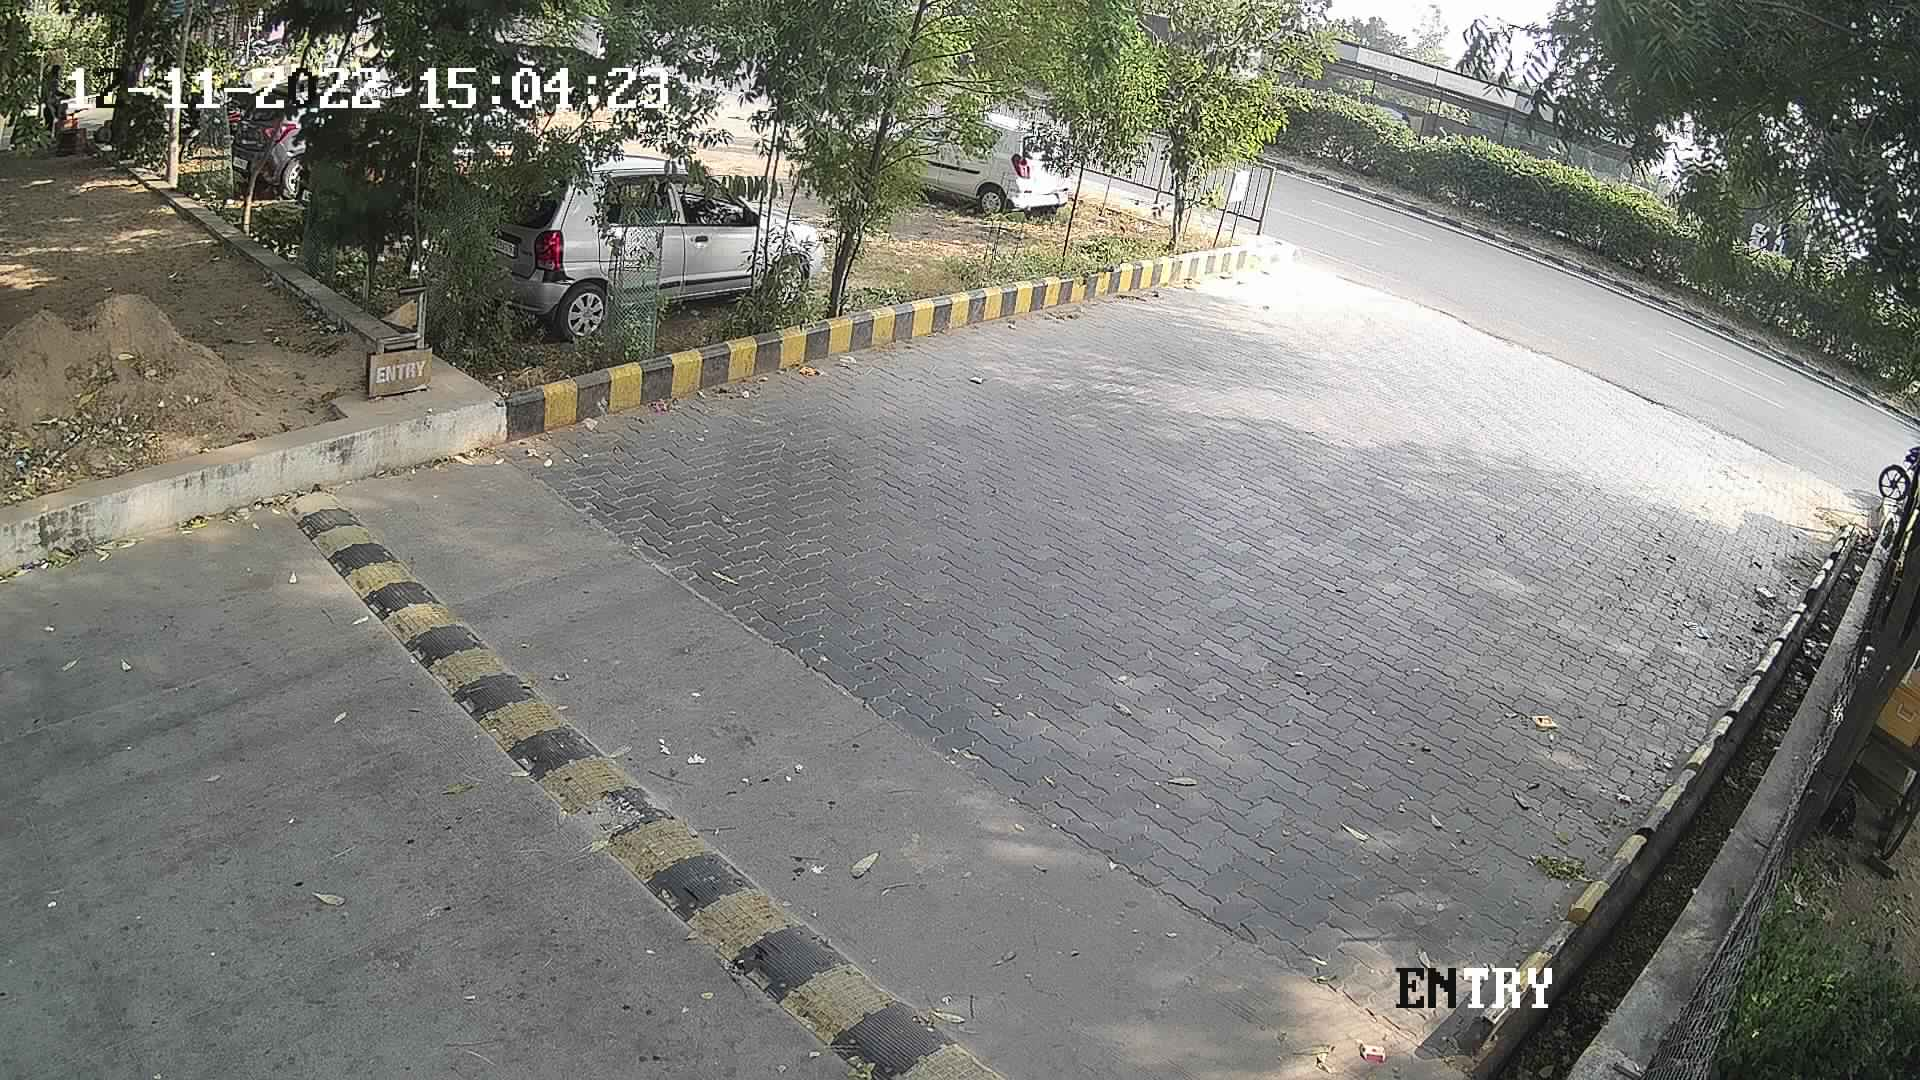Bike: (1873, 425, 1917, 539)
Car: (454, 137, 829, 345), (848, 105, 1073, 225)
